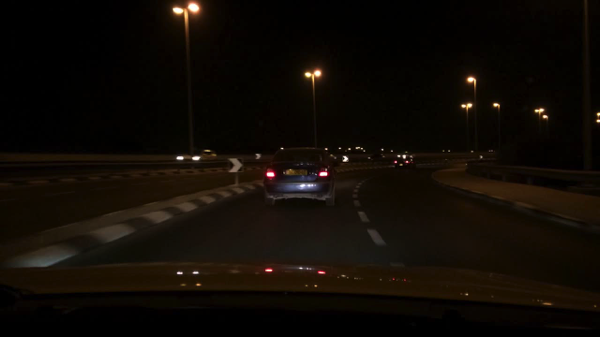car: (263, 147, 338, 207), (176, 146, 216, 162), (395, 154, 415, 169), (367, 153, 385, 162)
traffic sign: (226, 157, 244, 173), (342, 154, 350, 162), (254, 153, 261, 159)
